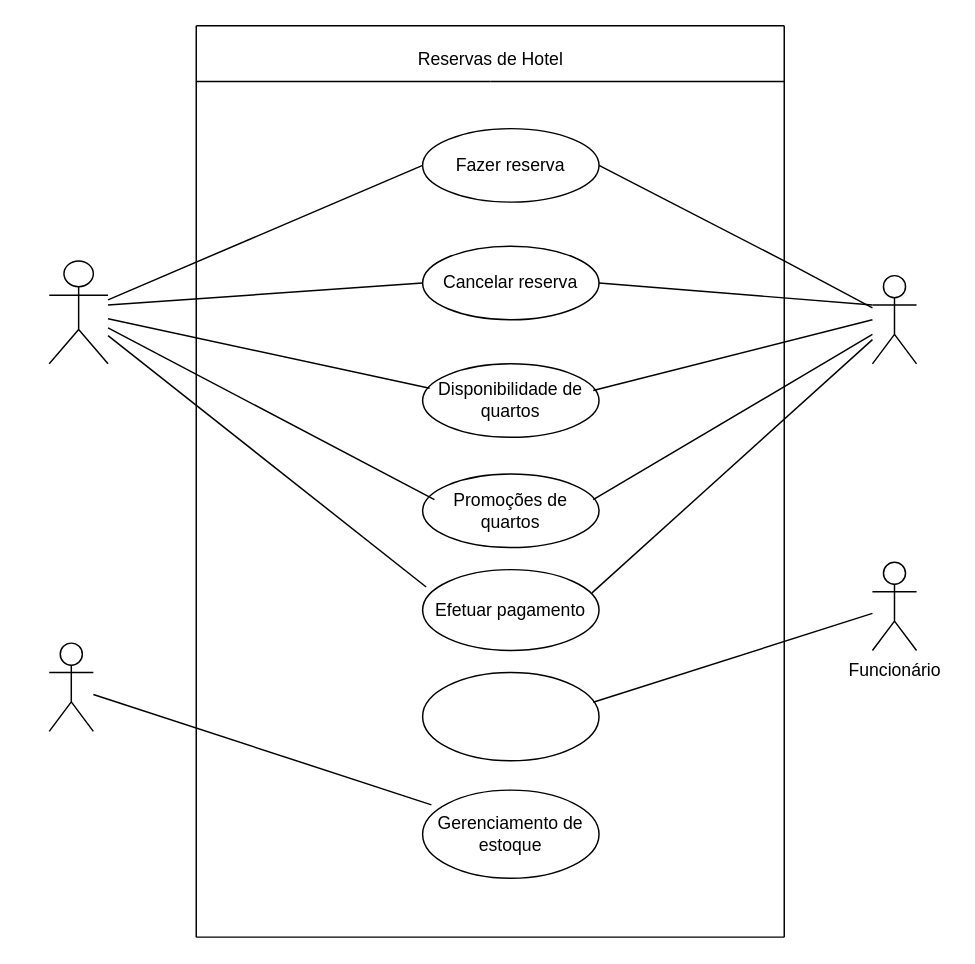
Image size: 975x964. Some labels were removed from this diagram. Each missing label, with the centre of its shape:
Cliente: the point at 78,311
Funcionário de estoque: the point at 70,686
Gerenciamento de hospedagem: the point at 510,716
Recepcionista: the point at 894,319
